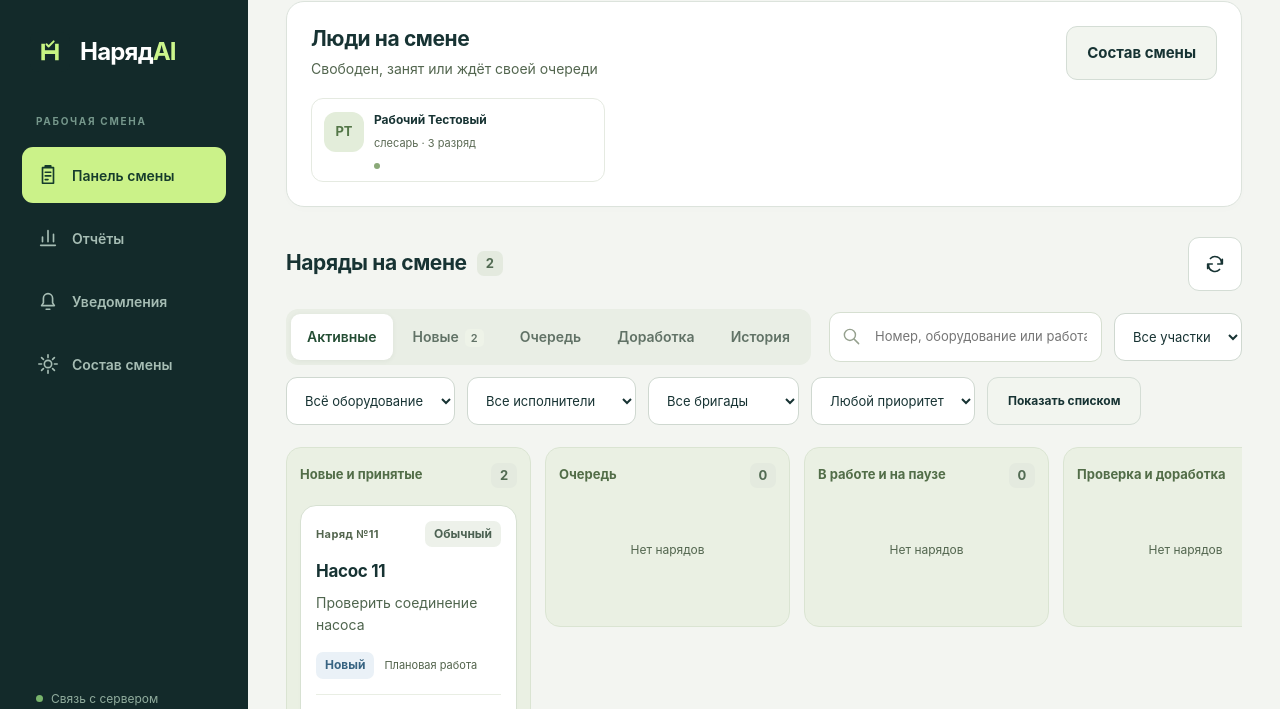
it: Оболочка рабочего приложения › мастер фильтрует оперативные наряды и счётчики по бригаде
(page scrolled)
Select "Бригада первая" in the dropdown named "Бригада" at (724, 401), box [648,377,799,425]
(page scrolled)
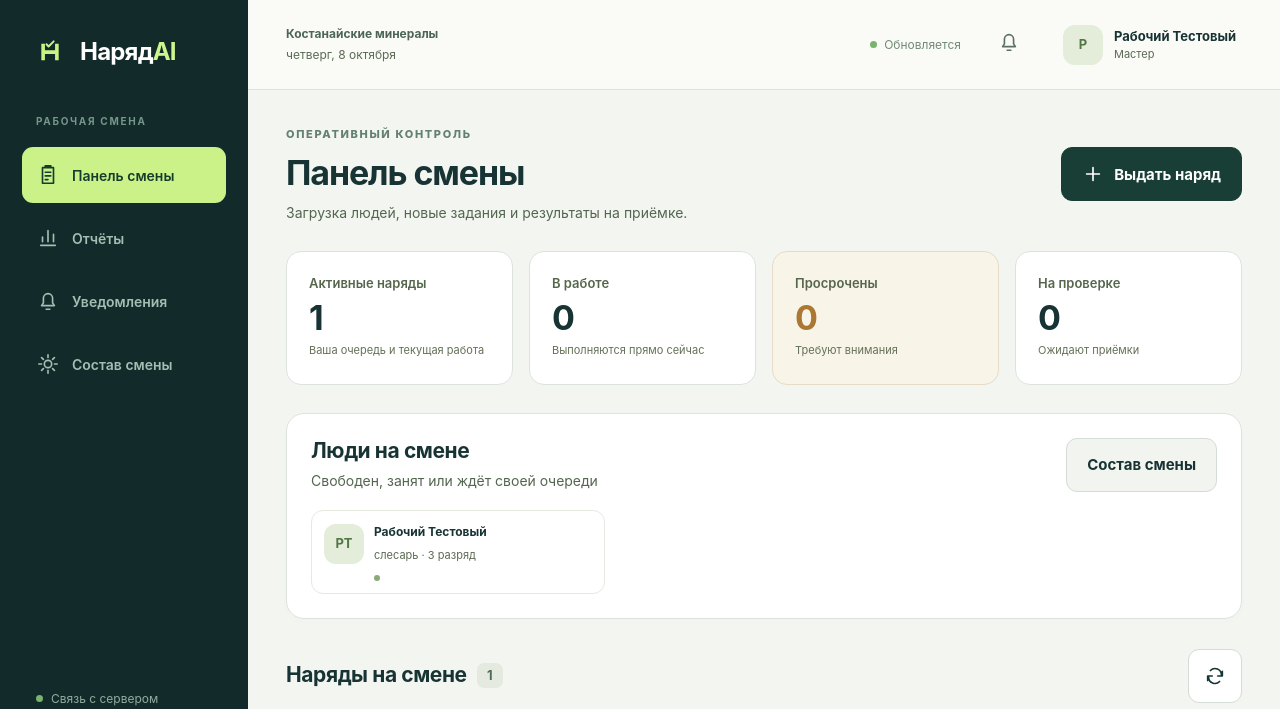
expect the 1st text "1" is shown: met, box [309,299,323,336]
